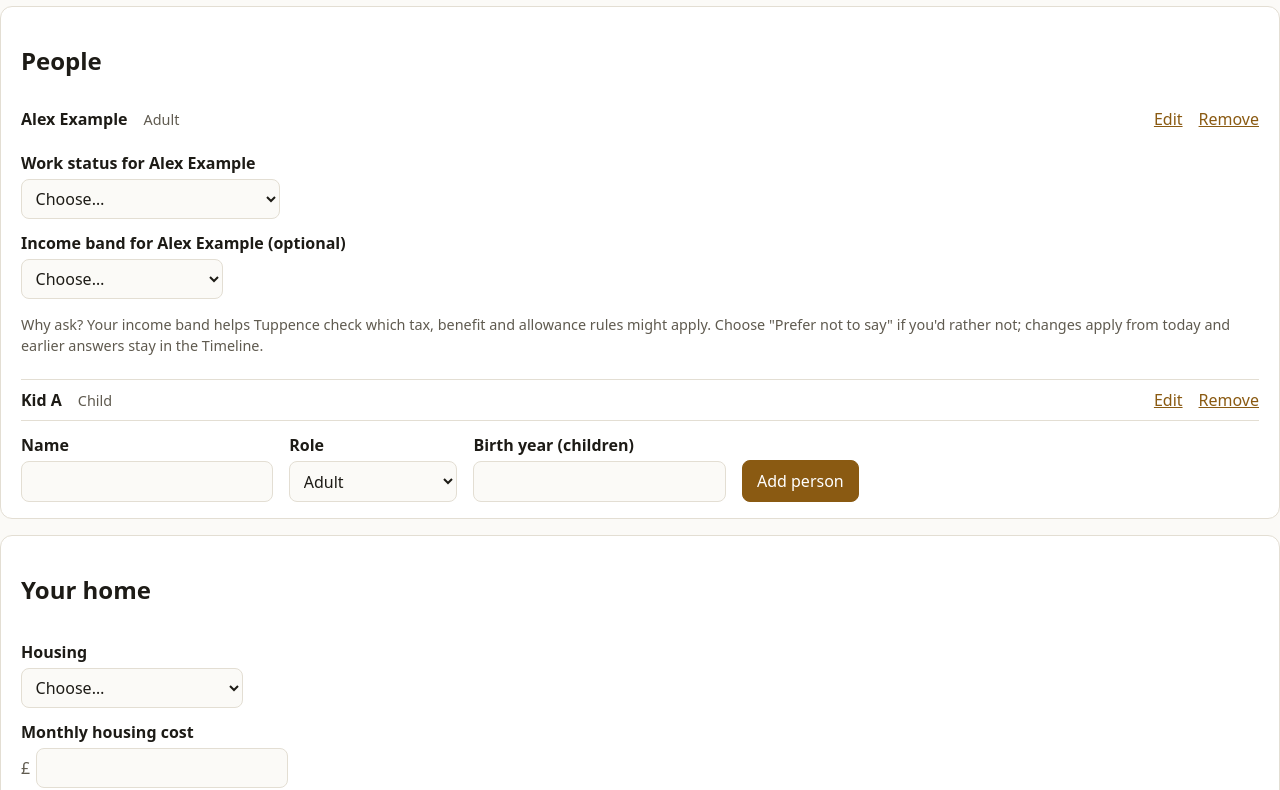
editing people › a stale edit gets the conflict message and the form restarts from what is stored
(page scrolled)
Click the button with aria-label "Edit Kid A" at coordinates (1168, 400), box [1154, 388, 1182, 412]
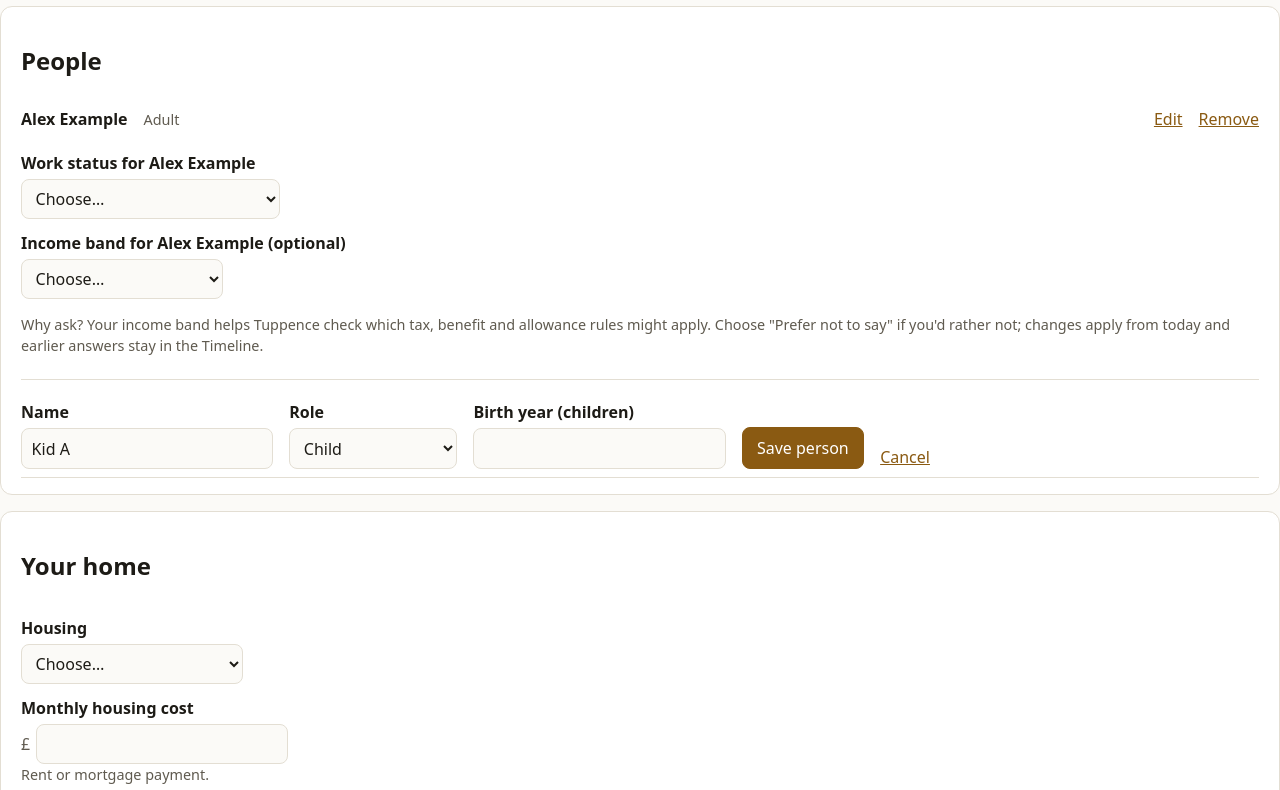
Type "2019" into the field labelled "Birth year (children)" at coordinates (600, 448), box [473, 428, 726, 469]
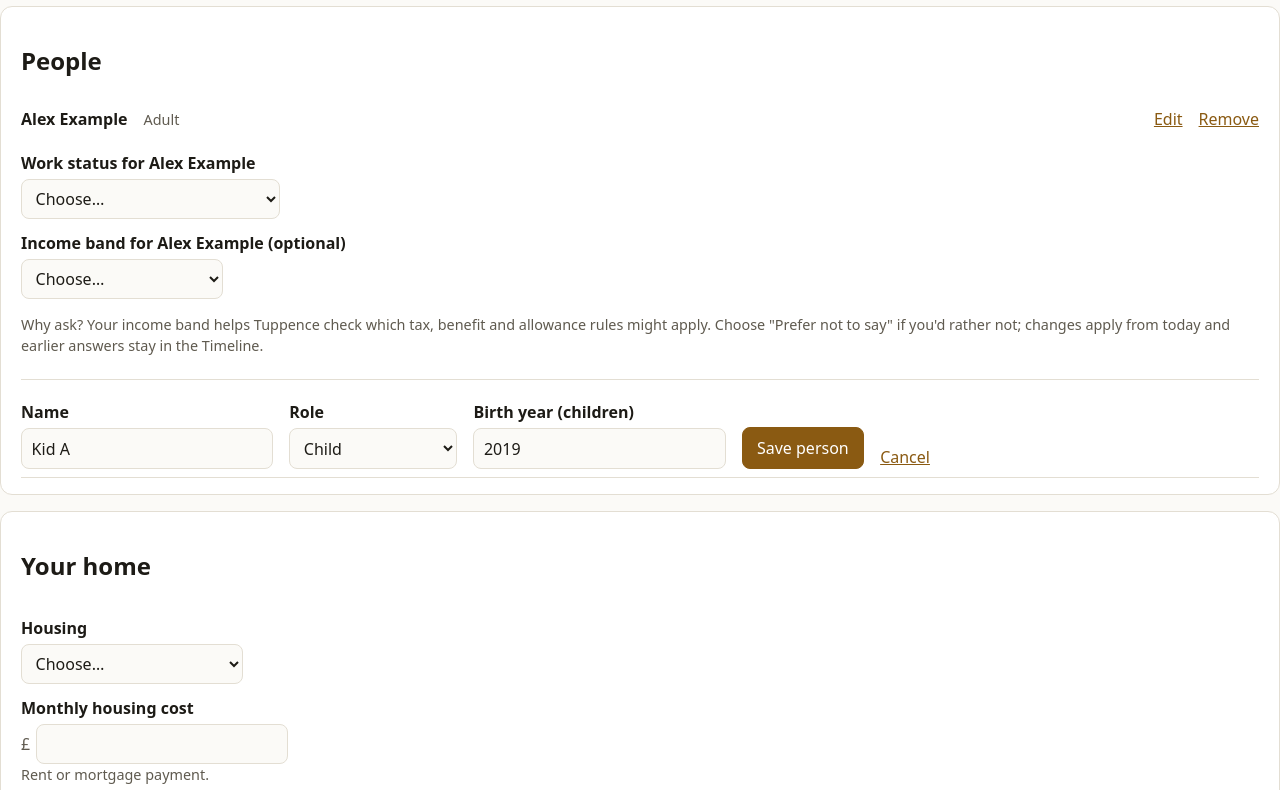
Click the button "Save person" at coordinates (803, 448), box [742, 427, 864, 469]
(page scrolled)
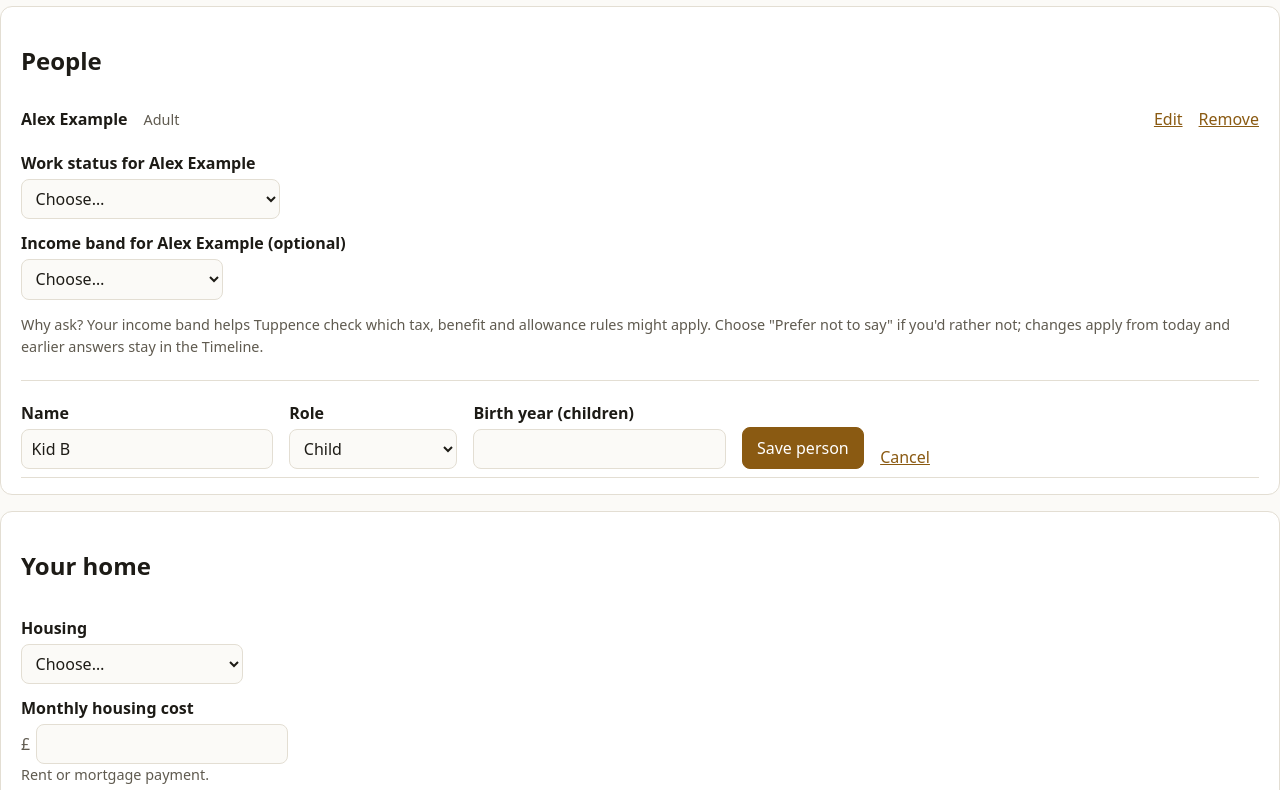
Expected: the field labelled "Name" holds "Kid B", [21, 428, 273, 469]
Expected: the field labelled "Birth year (children)" is empty, [473, 428, 726, 469]
